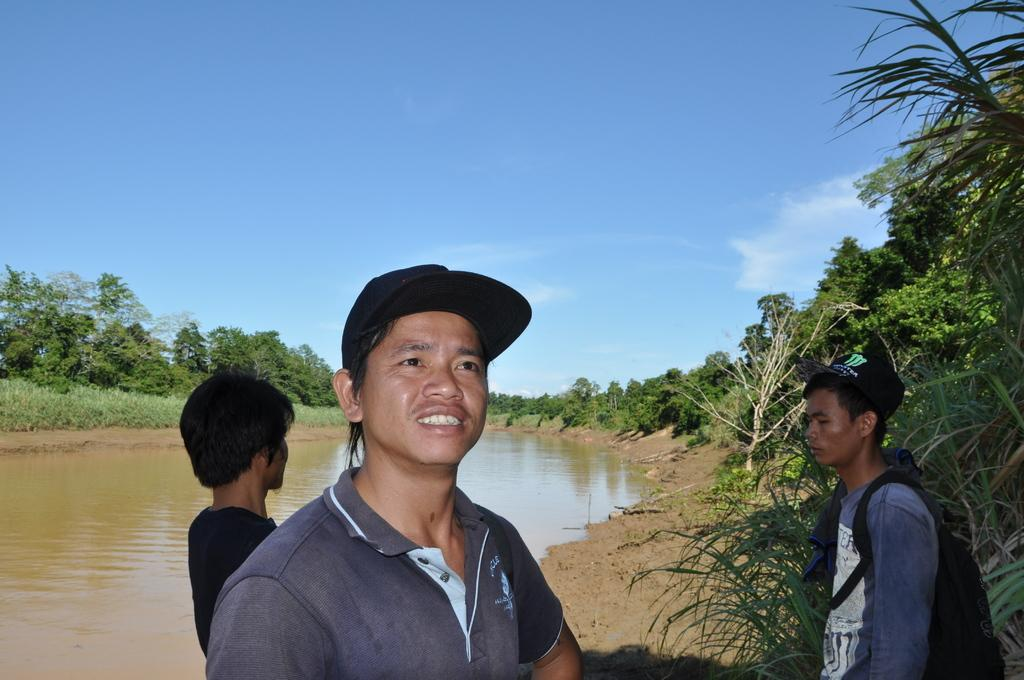Hat: (337, 264, 531, 368), (799, 350, 907, 420)
